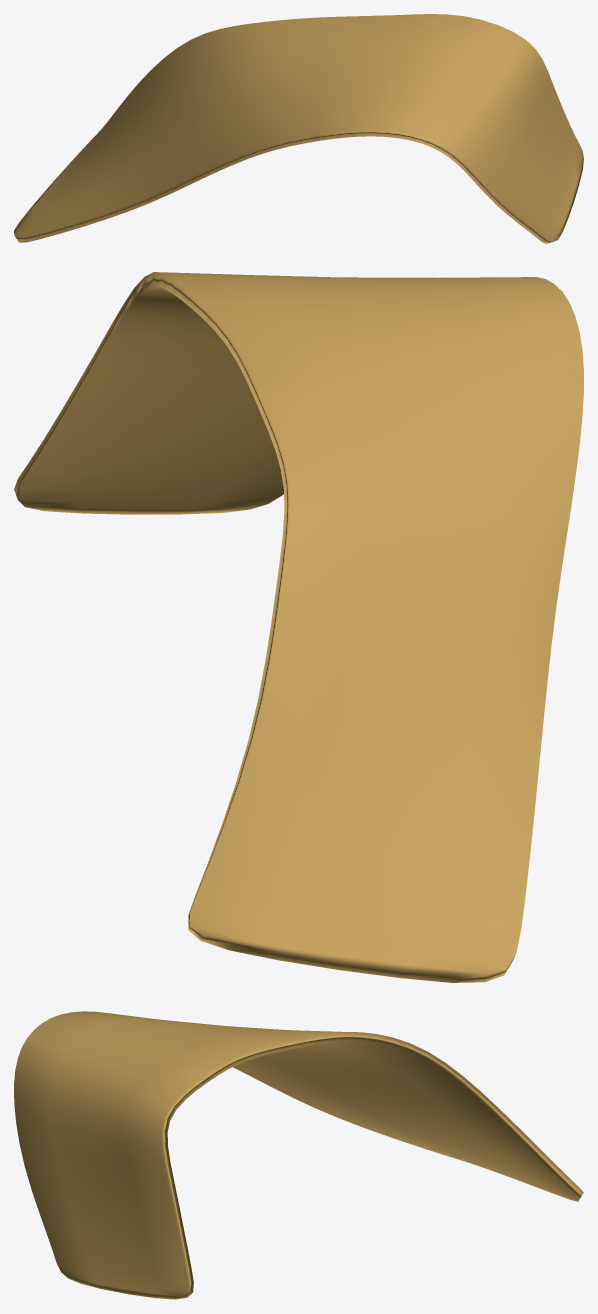
3 renders of one model, top to bottom at view 1: azimuth 30°, elevation 25°; view 2: azimuth 150°, elevation 25°; view 3: azimuth 270°, elevation 25°, orthographic. The views are drawn at different scales.
Parts seen in each view (by area): view 1: 右侧腘腓韧带; view 2: 右侧腘腓韧带; view 3: 右侧腘腓韧带.
Part boxes in pixels (<box>): 右侧腘腓韧带: <box>14,14,583,243</box>; 右侧腘腓韧带: <box>14,272,583,982</box>; 右侧腘腓韧带: <box>14,1011,583,1299</box>.
Size of the model in its own units: 0.0404 by 0.0218 by 0.0442.
